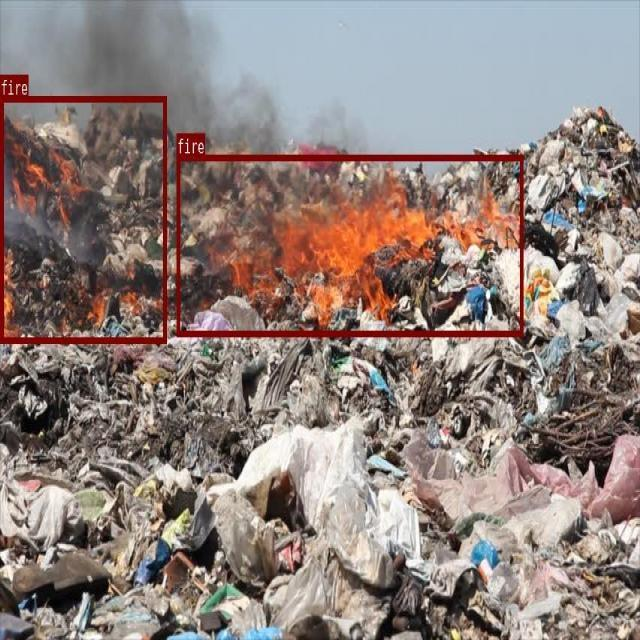fire: (176, 154, 522, 335), (0, 95, 165, 341)
